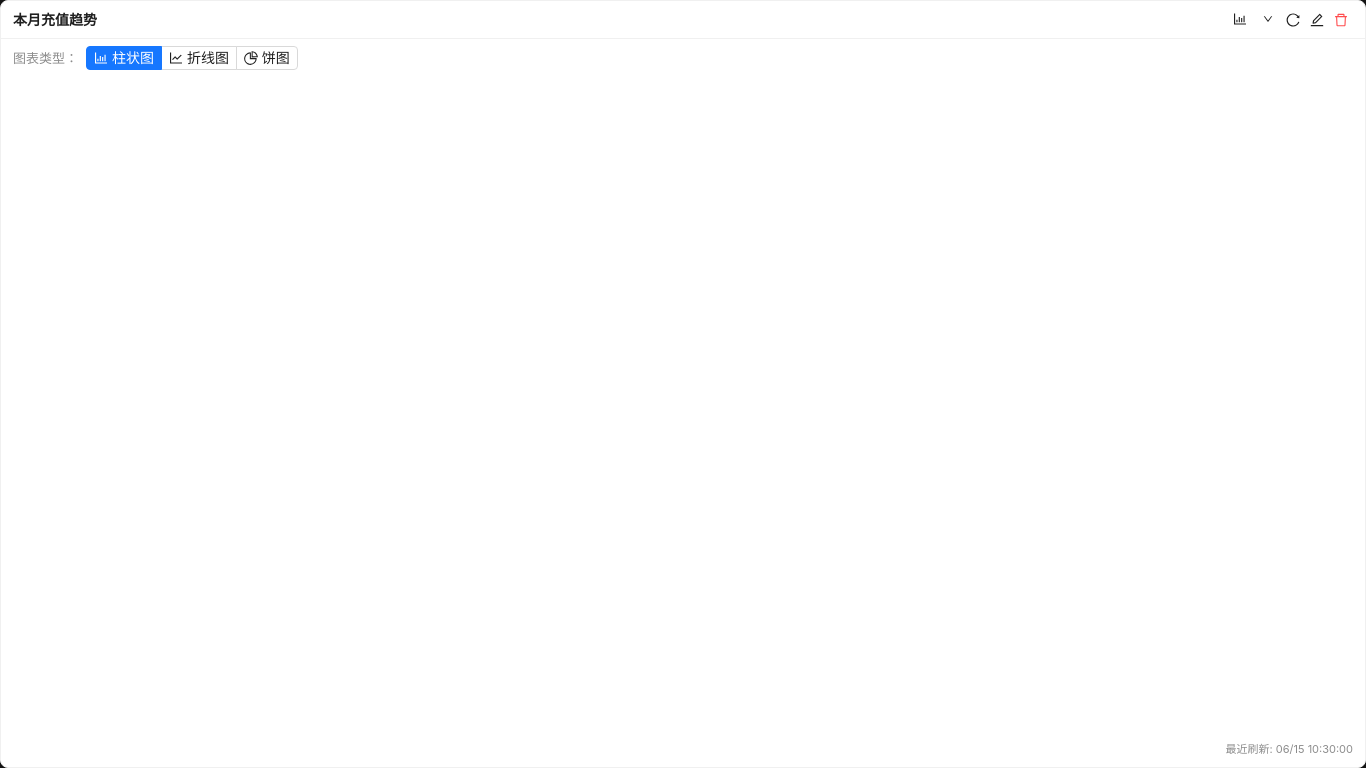
Test: DashboardPanel - 标题编辑 › 点击编辑标题按钮应进入编辑模式
Step 1. Click the 3rd button named "edit" → (1317, 20), box [1305, 8, 1329, 32]
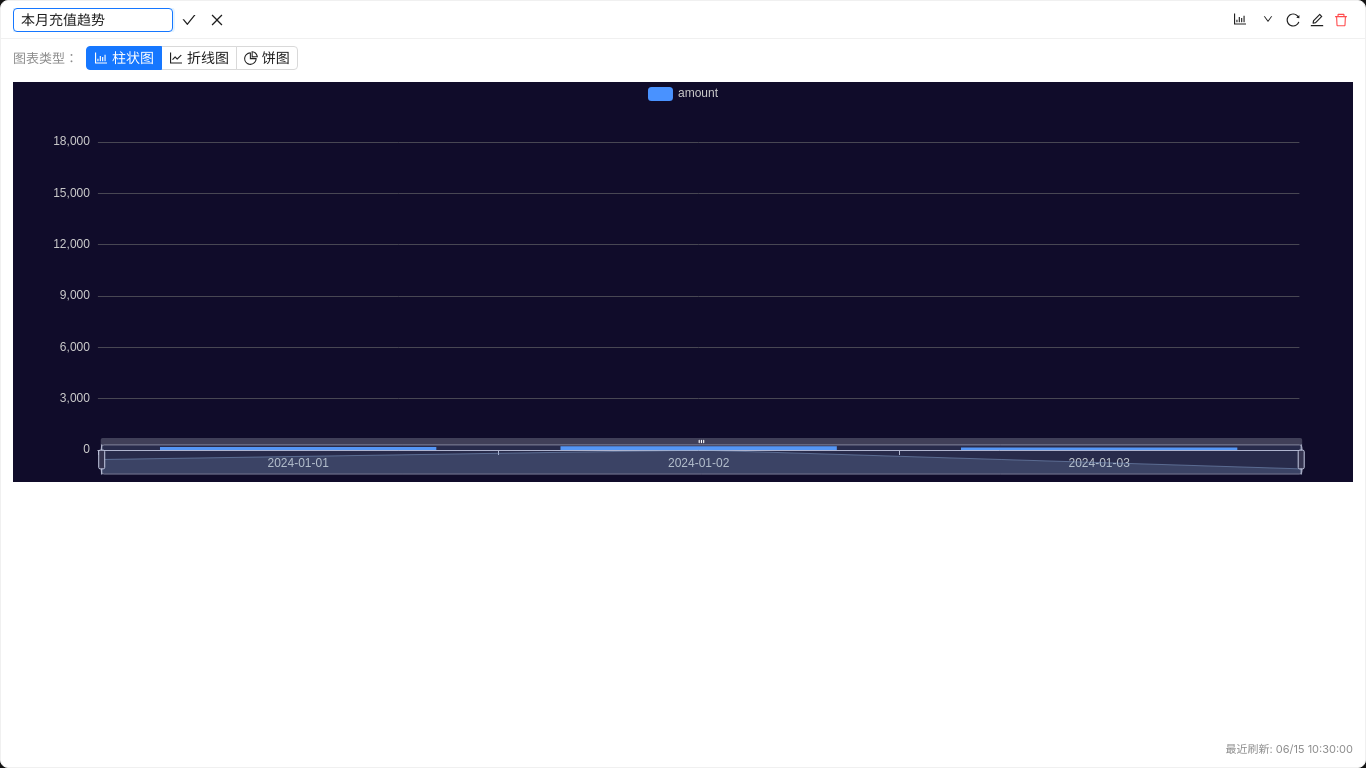
Result: the field holds "本月充值趋势" at [13, 8, 173, 32]
